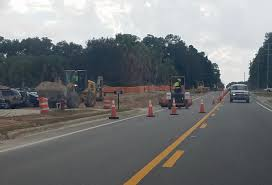barrel: (38, 98, 49, 114), (103, 96, 110, 108)
